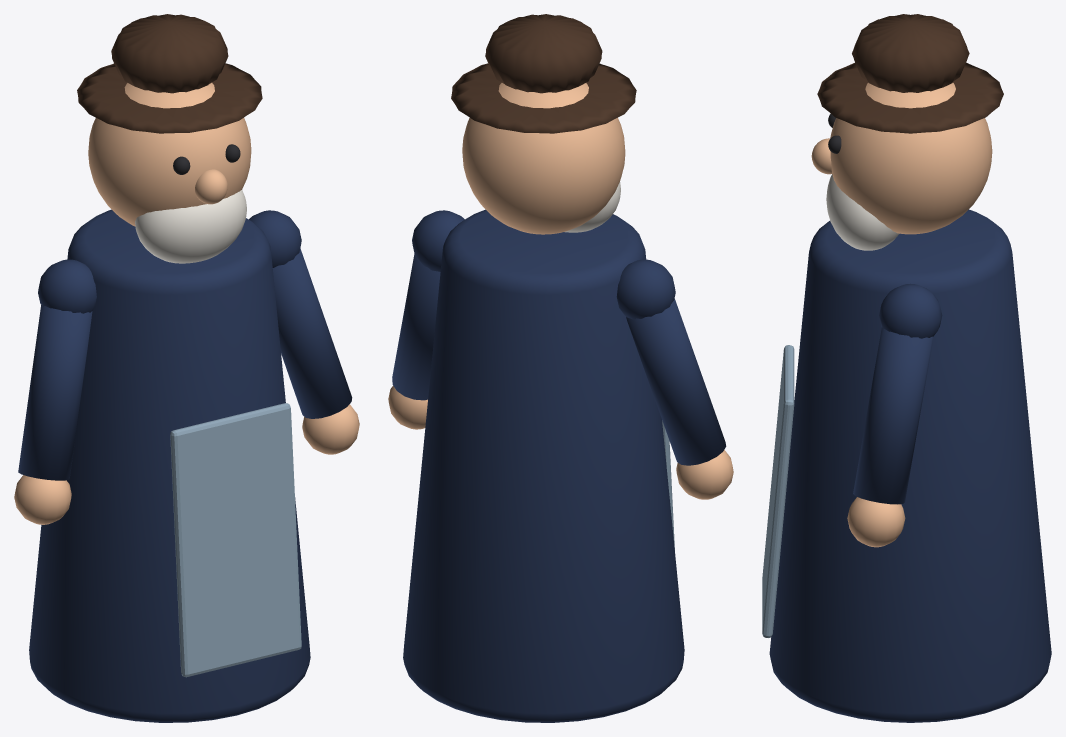
Rendered from Toymaker.fbx.
3 renders of one model, left to right at view 1: azimuth 30°, elevation 25°; view 2: azimuth 150°, elevation 25°; view 3: azimuth 270°, elevation 25°, orthographic.
Visible parts, largest first — view 1: Toymaker_Body, Toymaker_Head, Toymaker_Apron, Toymaker_Arms; view 2: Toymaker_Body, Toymaker_Head, Toymaker_Arms; view 3: Toymaker_Body, Toymaker_Head, Toymaker_Arms, Toymaker_Apron.
Boxes of the visible parts, x1,y1,x2,y2 form: Toymaker_Body: (29,209,310,722); Toymaker_Head: (77,14,262,263); Toymaker_Apron: (170,403,301,677); Toymaker_Arms: (14,210,359,524); Toymaker_Body: (403,209,684,722); Toymaker_Head: (451,14,636,234); Toymaker_Arms: (388,210,733,499); Toymaker_Body: (769,209,1051,722); Toymaker_Head: (811,14,1003,250); Toymaker_Arms: (847,283,942,547); Toymaker_Apron: (762,345,794,637).
Size of the model in its own units: 0.74 by 1.35 by 0.5486.
